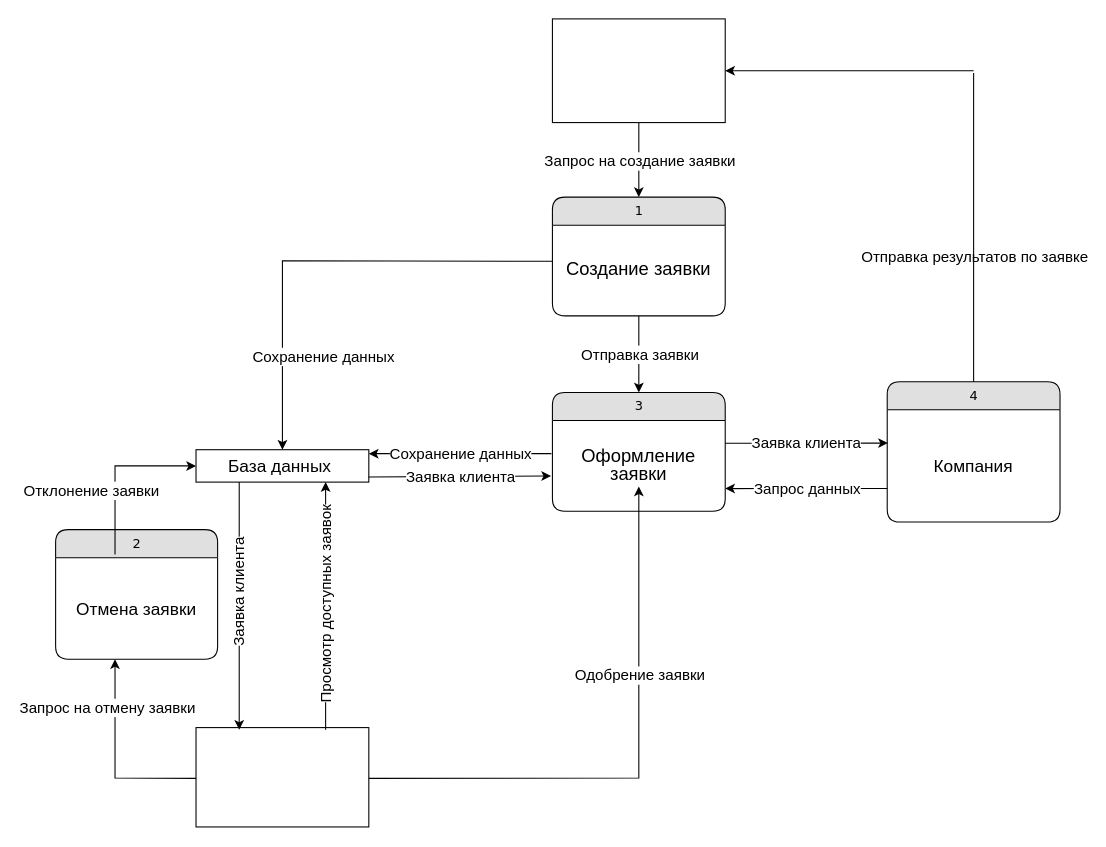
This 1106x847 diagram has some shape labels left out. Here are the shapes that lost their labels. From the top down, the box of each, then its label:
(551, 18, 725, 123): Клиент
(195, 727, 369, 827): Эксперт
